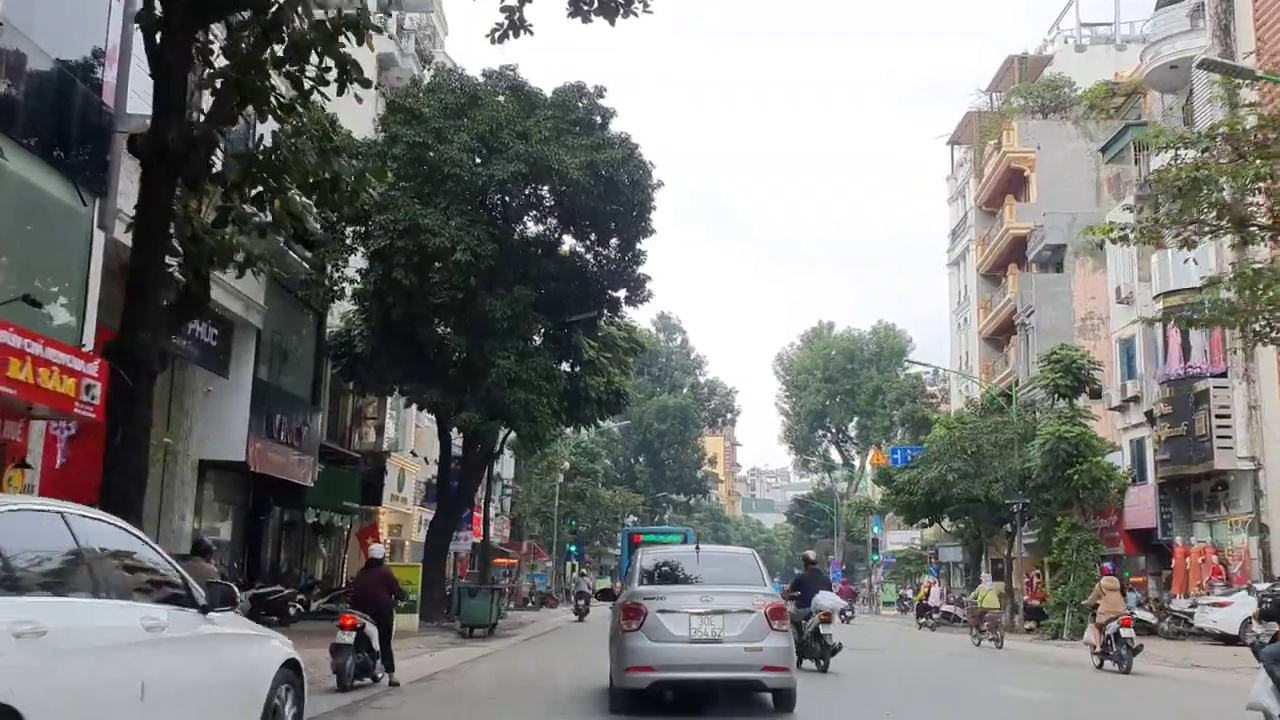person: (336, 628, 355, 642), (817, 621, 837, 633), (1117, 626, 1136, 637)
